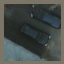car: (18, 24, 53, 48), (31, 6, 61, 26)
